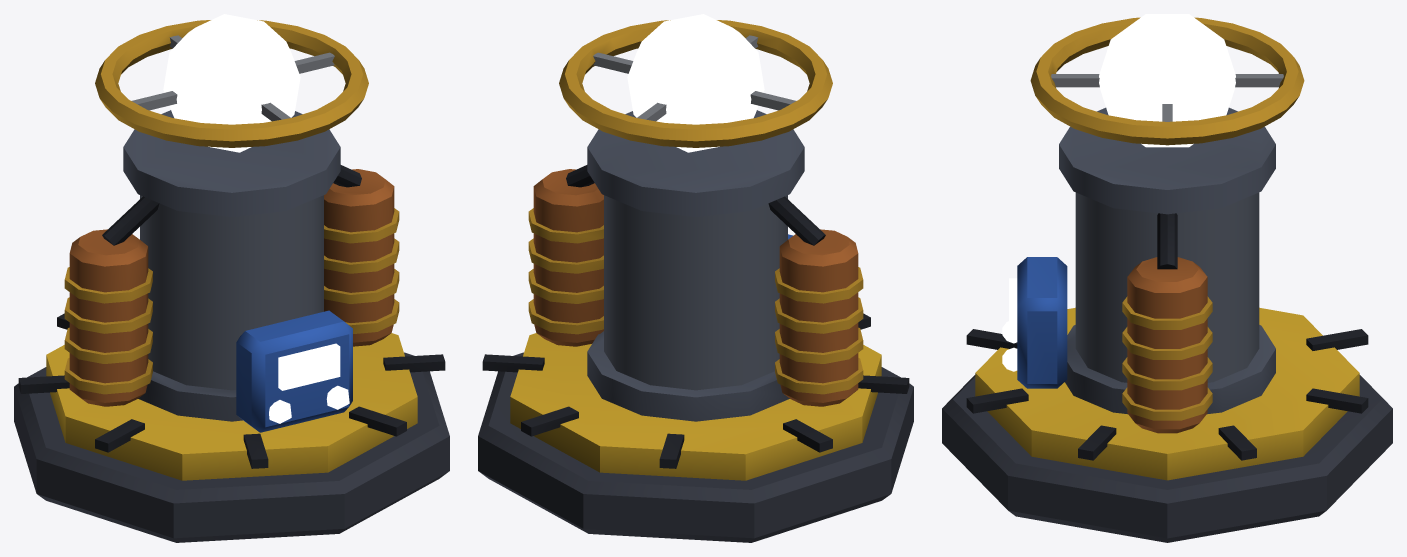
The model's file is mt_generator.glb.
The picture shows the model from 3 angles, left to right: view 1: azimuth 30°, elevation 25°; view 2: azimuth 150°, elevation 25°; view 3: azimuth 270°, elevation 25°; orthographic projection.
Parts seen in each view (by area): view 1: body, spin_ring, pulse_core_glow, lamp_glow; view 2: body, spin_ring, pulse_core_glow; view 3: body, spin_ring, pulse_core_glow, lamp_glow.
Part boxes in pixels (box(x1,y1,x2,y2)): body: box(14, 110, 449, 542); spin_ring: box(95, 20, 368, 147); pulse_core_glow: box(163, 14, 300, 152); lamp_glow: box(269, 343, 349, 423); body: box(478, 110, 913, 542); spin_ring: box(559, 20, 832, 147); pulse_core_glow: box(627, 14, 764, 152); body: box(942, 107, 1392, 542); spin_ring: box(1030, 17, 1304, 145); pulse_core_glow: box(1099, 14, 1235, 147); lamp_glow: box(1002, 278, 1017, 371).
Size of the model in its own units: 2.7 by 2.88 by 2.7.
